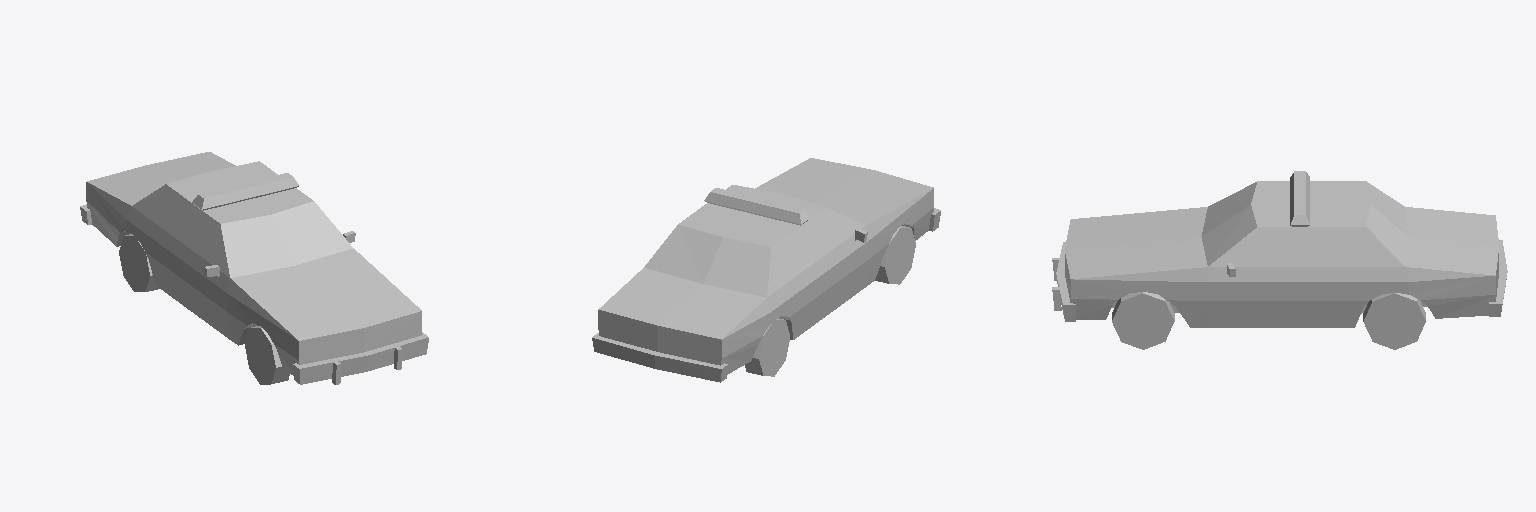
The model's file is Car5Police_o4.obj.
3 renders of one model, left to right at view 1: azimuth 30°, elevation 25°; view 2: azimuth 150°, elevation 25°; view 3: azimuth 270°, elevation 25°, orthographic.
Visible parts, largest first — view 1: Car5_Police; view 2: Car5_Police; view 3: Car5_Police.
Part boxes in pixels (bbox=[...]): Car5_Police: bbox=[80, 152, 428, 384]; Car5_Police: bbox=[592, 158, 940, 382]; Car5_Police: bbox=[1052, 171, 1507, 349].
Size of the model in its own units: 1.36 by 1.1 by 3.61.